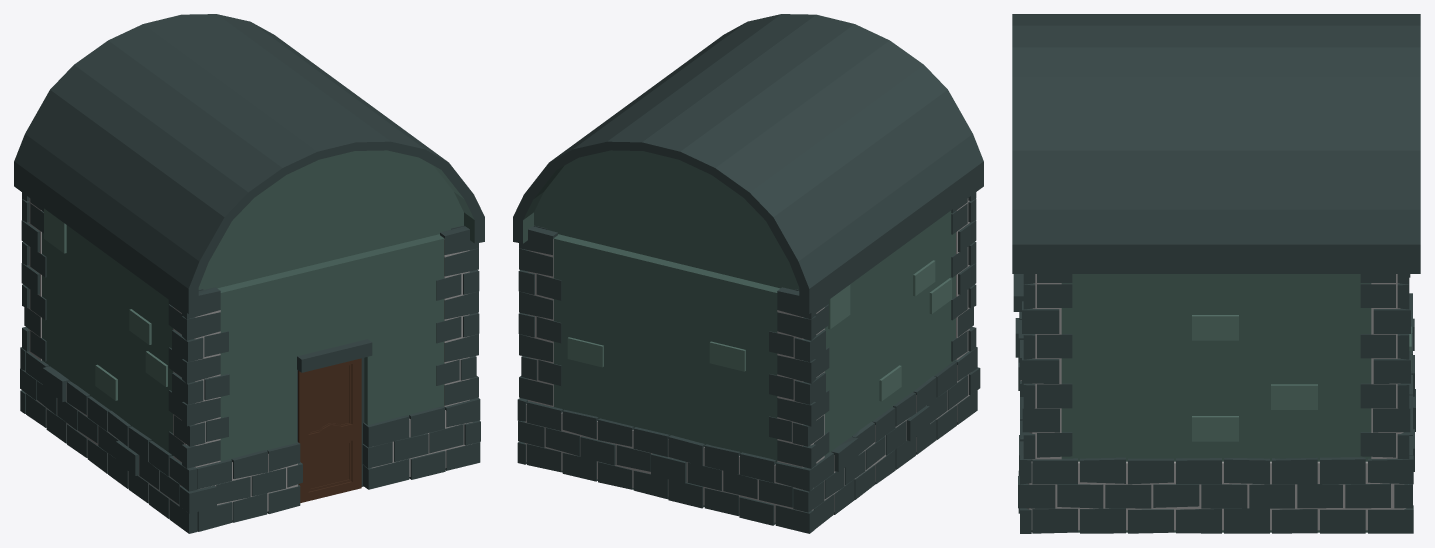
File: 1Story_RoundRoof.glb
The picture shows the model from 3 angles, left to right: view 1: azimuth 30°, elevation 25°; view 2: azimuth 150°, elevation 25°; view 3: azimuth 270°, elevation 25°; orthographic projection. The views are drawn at different scales.
Visible parts, largest first — view 1: 1Story_RoundRoof_Mat; view 2: 1Story_RoundRoof_Mat; view 3: 1Story_RoundRoof_Mat.
Boxes of the visible parts, left/top/right/bottom form: 1Story_RoundRoof_Mat: left=14, top=14, right=484, bottom=533; 1Story_RoundRoof_Mat: left=513, top=14, right=983, bottom=533; 1Story_RoundRoof_Mat: left=1012, top=14, right=1420, bottom=533.
Size of the model in its own units: 2.09 by 2.38 by 2.13.
